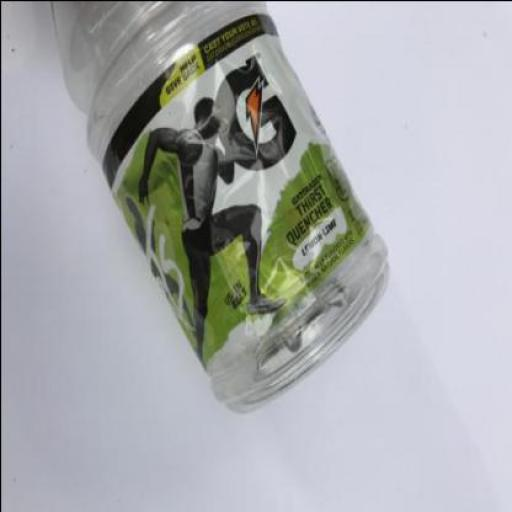plastic: (49, 2, 390, 410), (101, 12, 372, 376)
